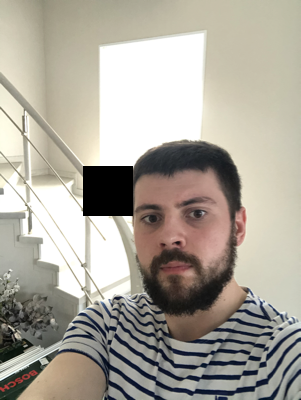without_mask: (134, 191, 229, 316)
